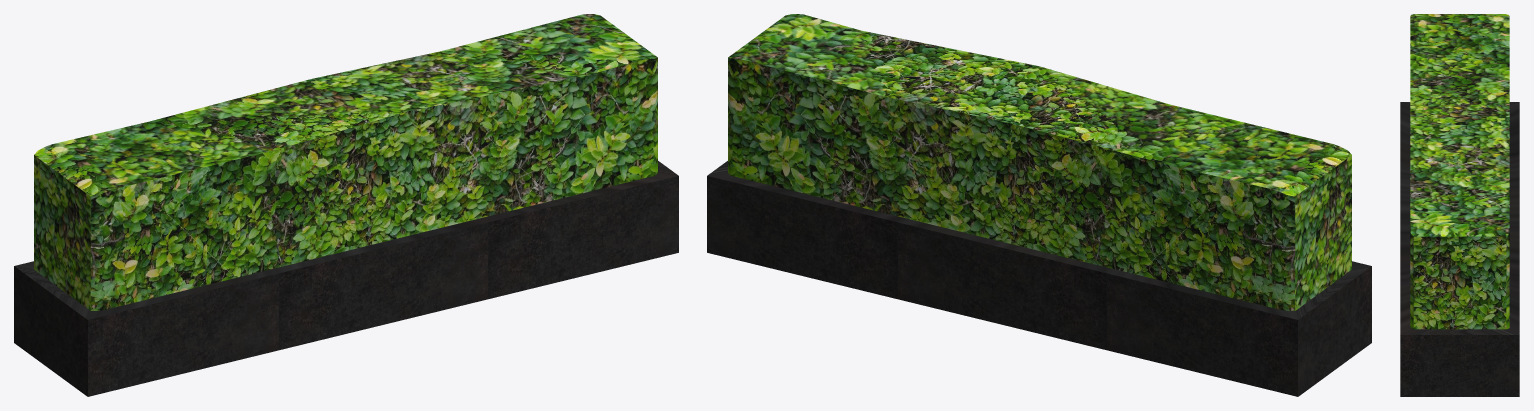
File: Bush.fbx
3 views of the same model, side by side, from view 1: azimuth 30°, elevation 25°; view 2: azimuth 150°, elevation 25°; view 3: azimuth 270°, elevation 25° (orthographic). The views are drawn at different scales.
Visible parts, largest first — view 1: pCube14; view 2: pCube14; view 3: pCube14.
Part boxes in pixels (left/top/right/bottom): pCube14: left=14, top=14, right=678, bottom=396; pCube14: left=707, top=14, right=1371, bottom=396; pCube14: left=1400, top=14, right=1519, bottom=396.
Bounding box in the file's own units: 57.74 × 18.82 × 12.49.
Materials: 2 (2 with a texture image).
